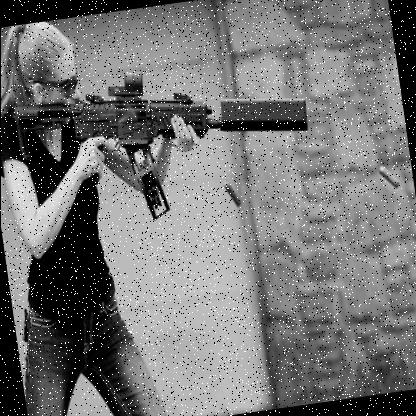rifle: (9, 35, 324, 248)
